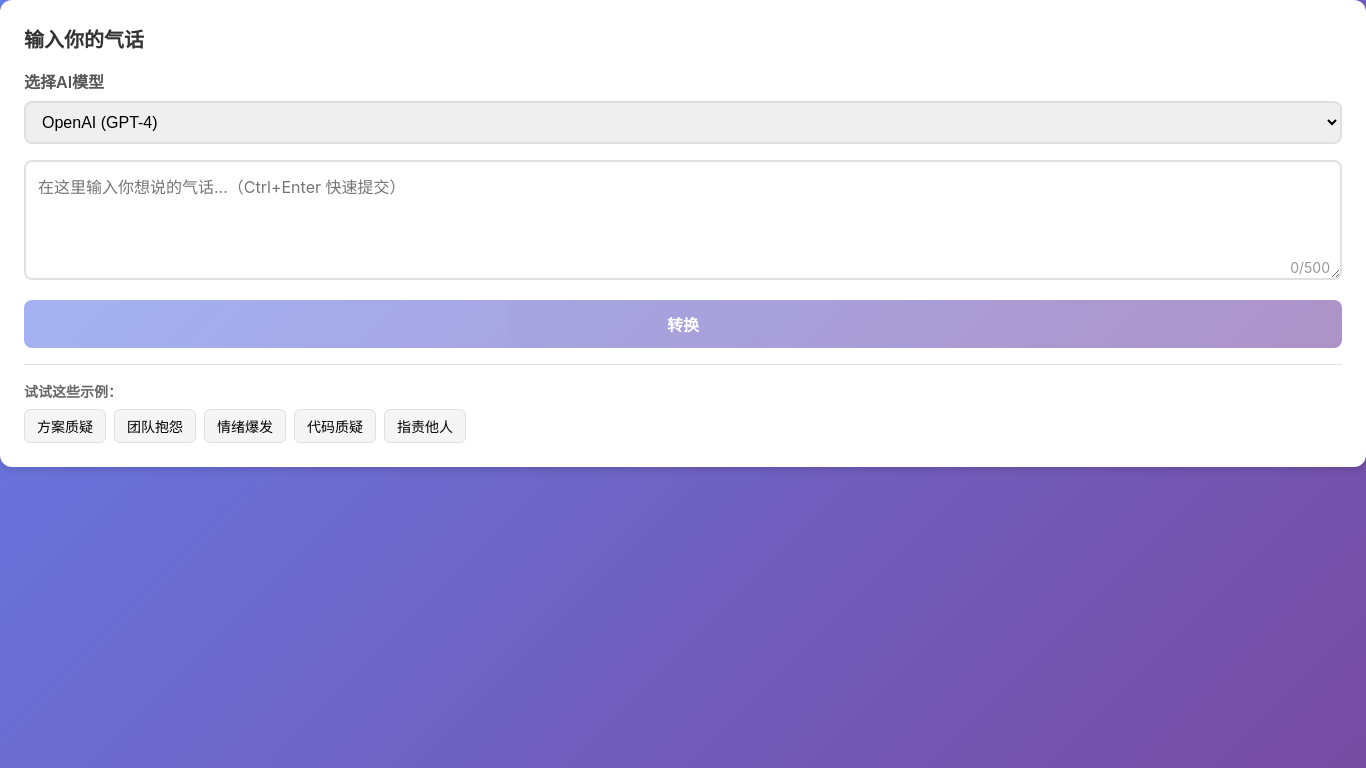
Test case: InputSection › input handling › fills textarea when clicking example button
Click the button "方案质疑" at (65, 426), box x1=24 y1=409 x2=106 y2=443
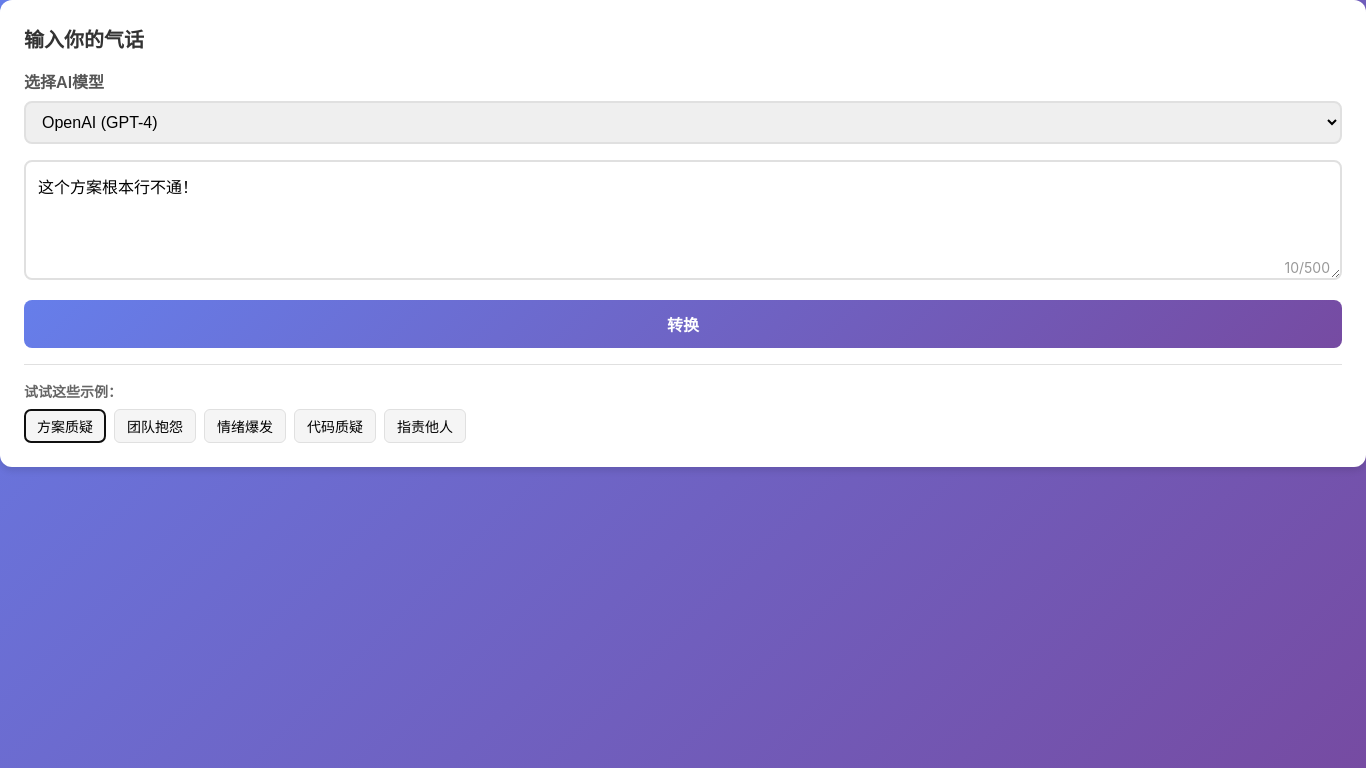
Expected: the text box with placeholder "在这里输入你想说的气话...（Ctrl+Enter 快速提交）" holds "这个方案根本行不通！", x1=24 y1=160 x2=1342 y2=280
